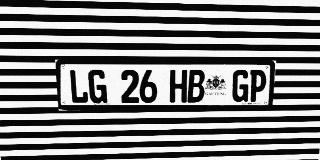2: (121, 70, 139, 103)
6: (139, 70, 157, 103)
B: (187, 70, 205, 102)
G: (88, 70, 107, 103), (231, 70, 250, 102)
H: (169, 70, 187, 103)
L: (69, 69, 89, 103)
P: (248, 70, 267, 102)
